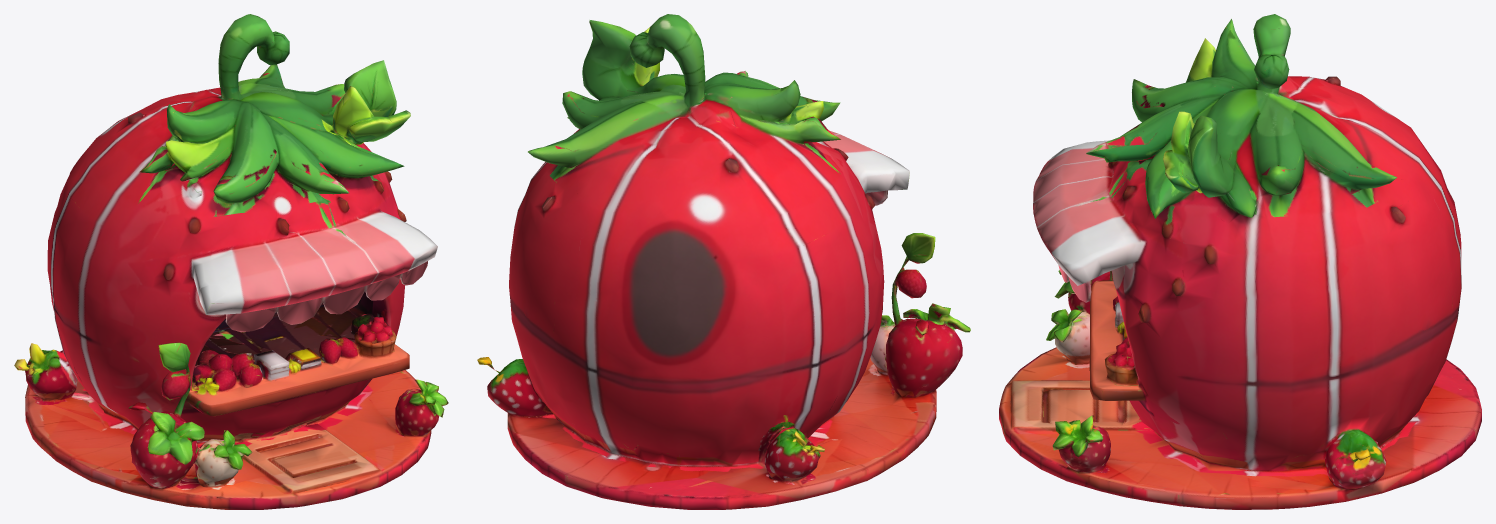
The model's file is Meshy_AI_Strawberry_Kiosk_0109075851_texture.fbx.
3 renders of one model, left to right at view 1: azimuth 30°, elevation 25°; view 2: azimuth 150°, elevation 25°; view 3: azimuth 270°, elevation 25°, orthographic. The views are drawn at different scales.
Visible parts, largest first — view 1: Mesh1.0; view 2: Mesh1.0; view 3: Mesh1.0.
Part boxes in pixels (box(x1,y1,x2,y2)): Mesh1.0: box(14, 14, 448, 509); Mesh1.0: box(477, 14, 970, 509); Mesh1.0: box(999, 14, 1481, 509).
Bounding box in the file's own units: 176 × 186 × 191.
1 material, 1 textured.
